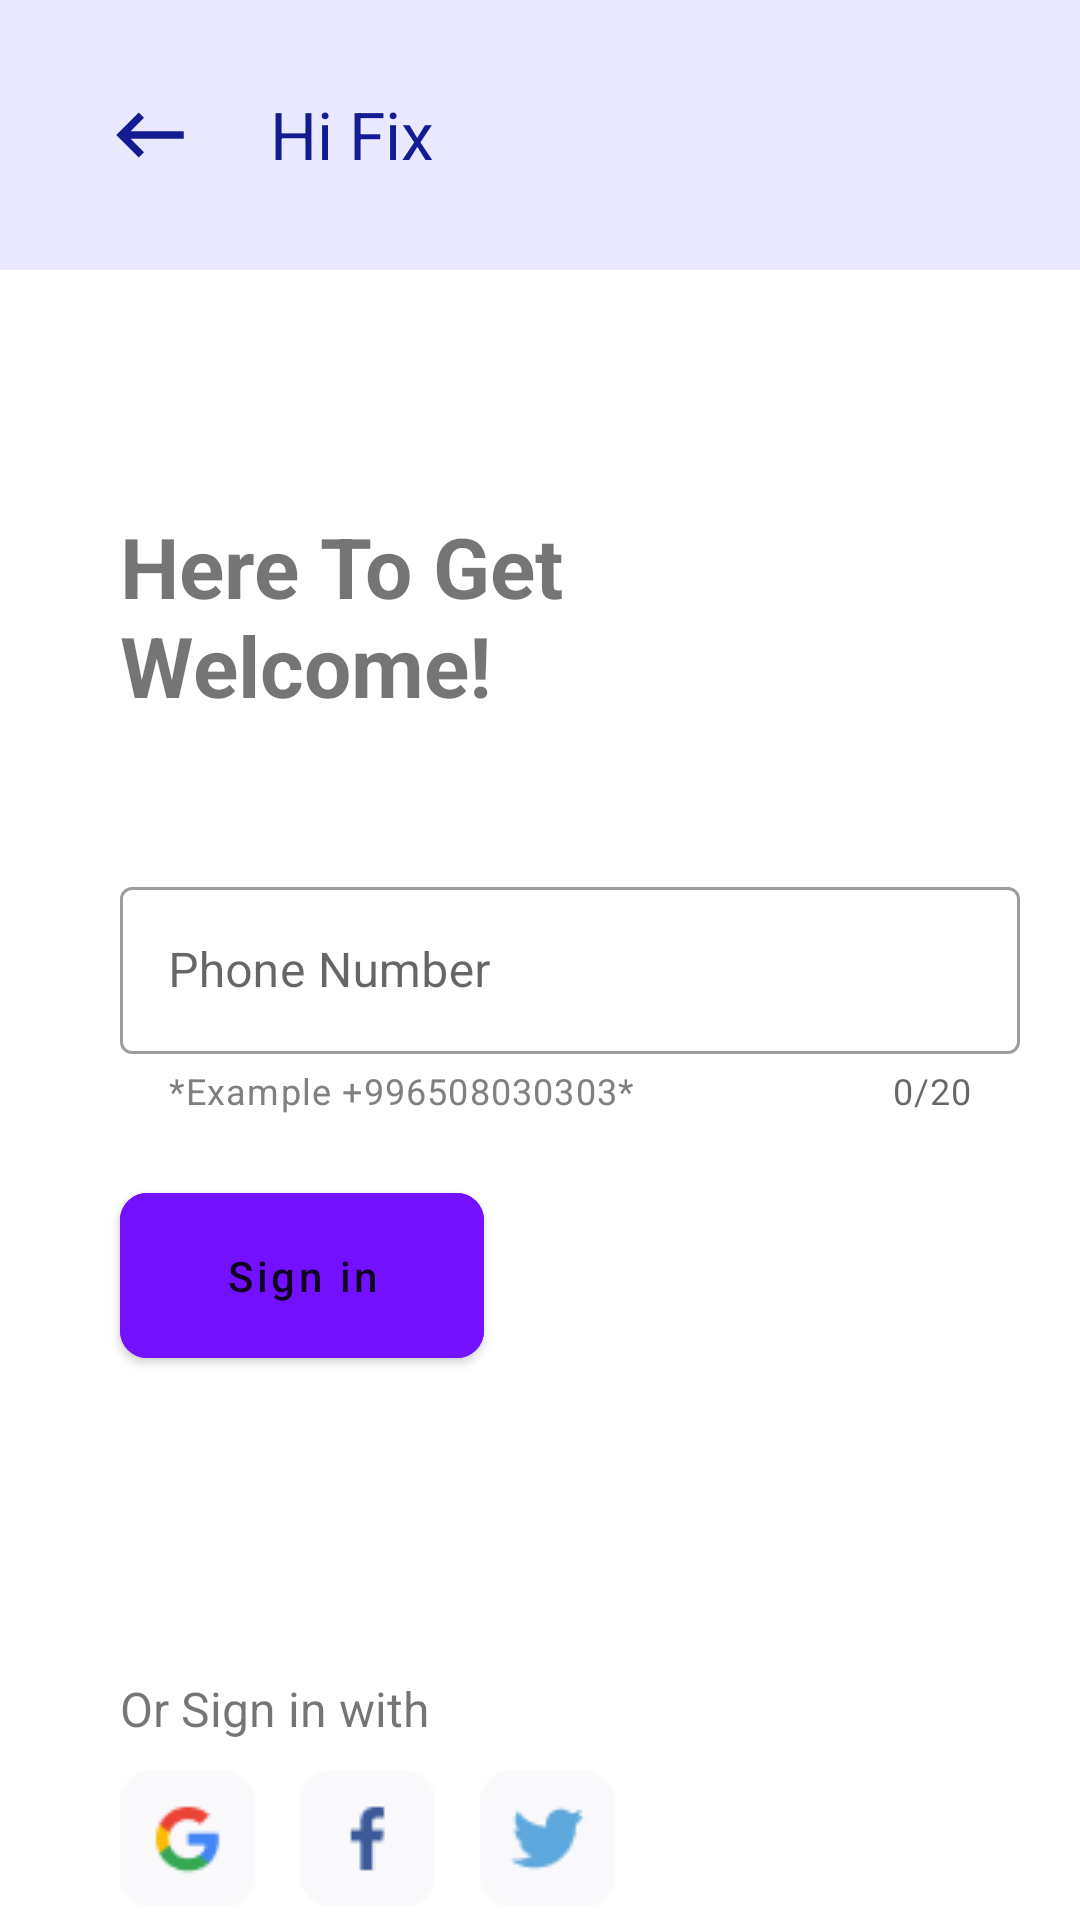

Where icons sit on this 1080px x 1920px app screen, as rect(x1, y1, x2, y2):
back: rect(116, 112, 184, 158)
